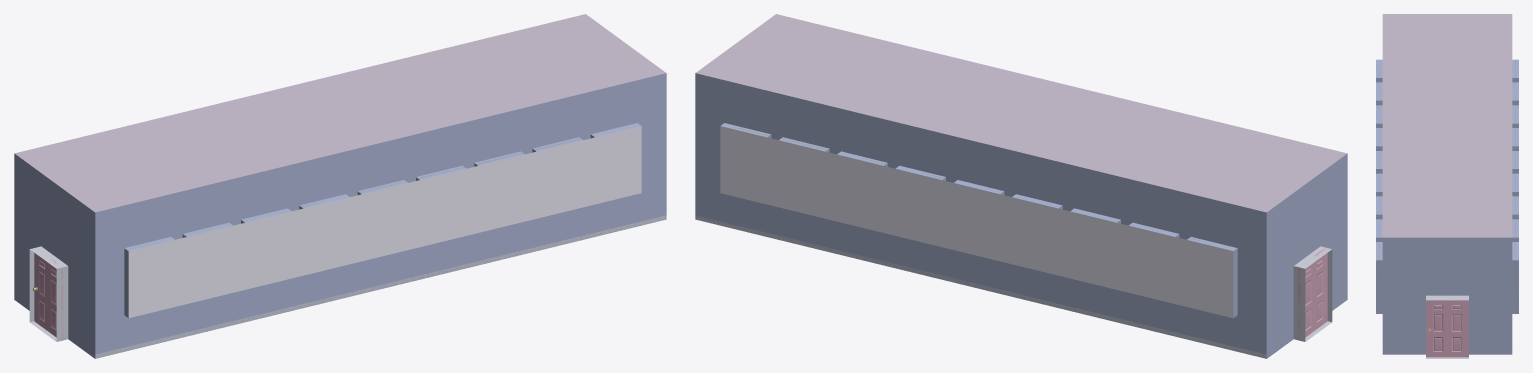
Rendered from corridor.fbx.
The picture shows the model from 3 angles, left to right: view 1: azimuth 30°, elevation 25°; view 2: azimuth 150°, elevation 25°; view 3: azimuth 270°, elevation 25°; orthographic projection. The views are drawn at different scales.
Parts seen in each view (by area): view 1: polySurface14, polySurface15, pCube23, polySurface1, polySurface7, pCube5, polySurface6; view 2: polySurface16, polySurface15, pCube24, polySurface1, polySurface11, pCube5, polySurface6; view 3: polySurface15, pCube53, polySurface14, polySurface16.
Part boxes in pixels (<box>): polySurface14: <box>95,73,666,357</box>; polySurface15: <box>15,14,665,212</box>; pCube23: <box>128,126,641,317</box>; polySurface1: <box>14,153,95,358</box>; polySurface7: <box>95,215,666,358</box>; pCube5: <box>29,246,68,341</box>; polySurface6: <box>34,253,63,340</box>; polySurface16: <box>695,73,1266,357</box>; polySurface15: <box>696,14,1346,212</box>; pCube24: <box>720,126,1233,317</box>; polySurface1: <box>1266,153,1347,358</box>; polySurface11: <box>695,215,1266,358</box>; pCube5: <box>1293,246,1332,341</box>; polySurface6: <box>1298,248,1327,340</box>; polySurface15: <box>1382,14,1512,237</box>; pCube53: <box>1382,237,1512,358</box>; polySurface14: <box>1376,59,1382,313</box>; polySurface16: <box>1512,59,1518,313</box>.
Size of the model in its own units: 50.9 by 12 by 13.25.
